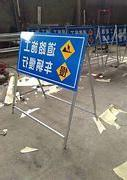sign: (16, 30, 88, 93)
